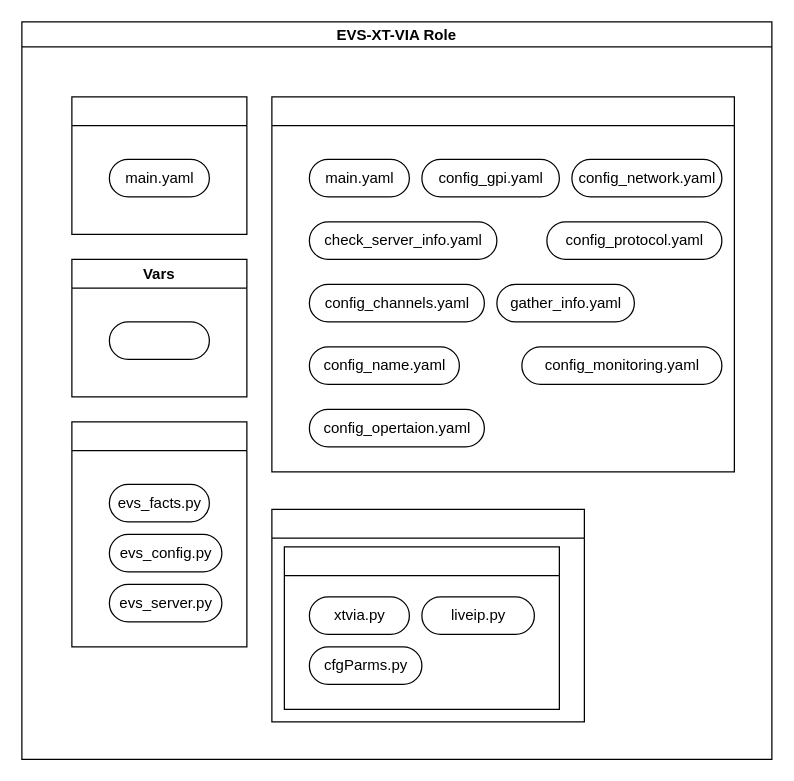
Some shapes in this 794 by 781 pixel diagram are drawn without their labels. Each missing label, with the box of its shape:
Defaults: (71, 96, 247, 234)
evsApi(Python): (283, 546, 559, 709)
Library: (71, 421, 247, 647)
main.yaml (configs): (108, 321, 209, 359)
module_utils: (271, 508, 584, 722)
Tasks: (271, 96, 734, 472)
